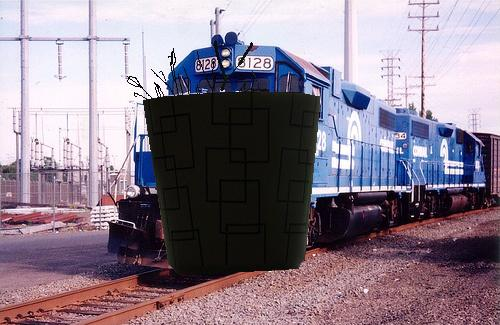tampered: (128, 41, 320, 275)
